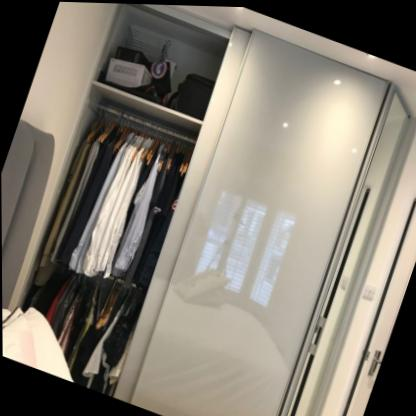Closet: (23, 3, 393, 416)
